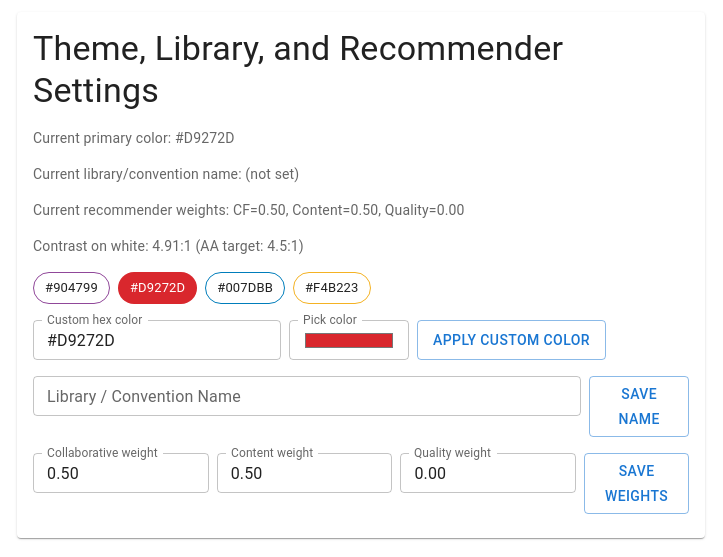
Test: AdminThemePage › allows selecting a preset theme color
The width and height of the screenshot is (723, 557).
Check: the text "Current primary color: #D9272D" is shown, box [33,130,235,146]
Click the button "#007DBB".
click(245, 288)  # box [205,272,285,304]
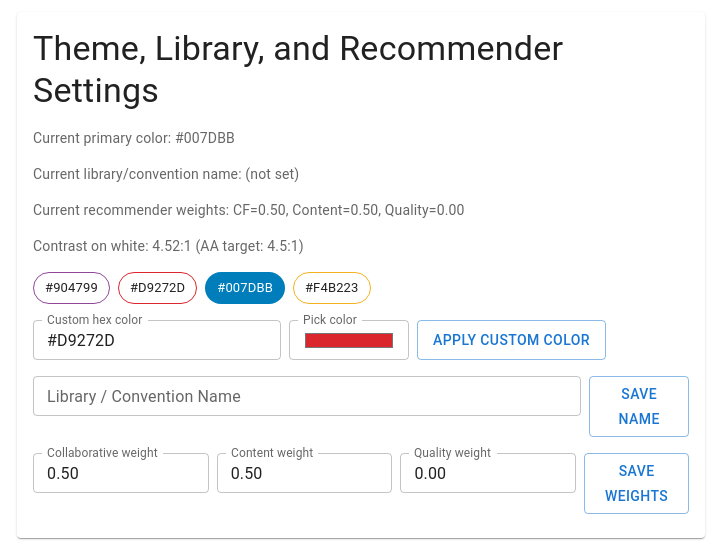
Check: the text "Current primary color: #007DBB" is shown, box [33,130,235,146]
